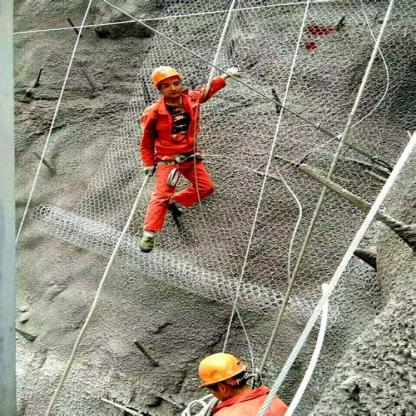helmet: (195, 350, 251, 398), (148, 64, 185, 98)
